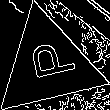P_W: (20, 41, 76, 88)
